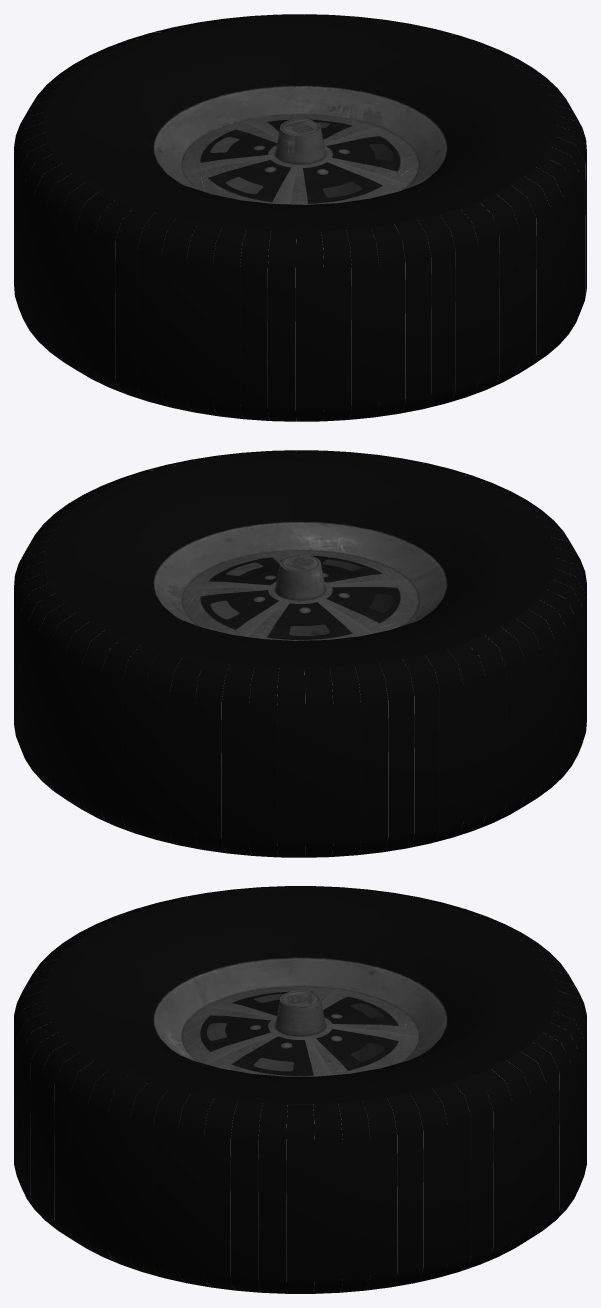
The model's file is low_poly_tire_fixed.glb.
The picture shows the model from 3 angles, top to bottom: view 1: azimuth 30°, elevation 25°; view 2: azimuth 150°, elevation 25°; view 3: azimuth 270°, elevation 25°; orthographic projection.
Visible parts, largest first — view 1: Tyre_Rim_LP; view 2: Tyre_Rim_LP; view 3: Tyre_Rim_LP.
Boxes of the visible parts, x1,y1,x2,y2 form: Tyre_Rim_LP: [14, 14, 586, 421]; Tyre_Rim_LP: [14, 450, 586, 857]; Tyre_Rim_LP: [14, 886, 586, 1293].
Bounding box in the file's own units: 68.82 × 24.58 × 68.82.
Materials: 1 (1 with a texture image).
